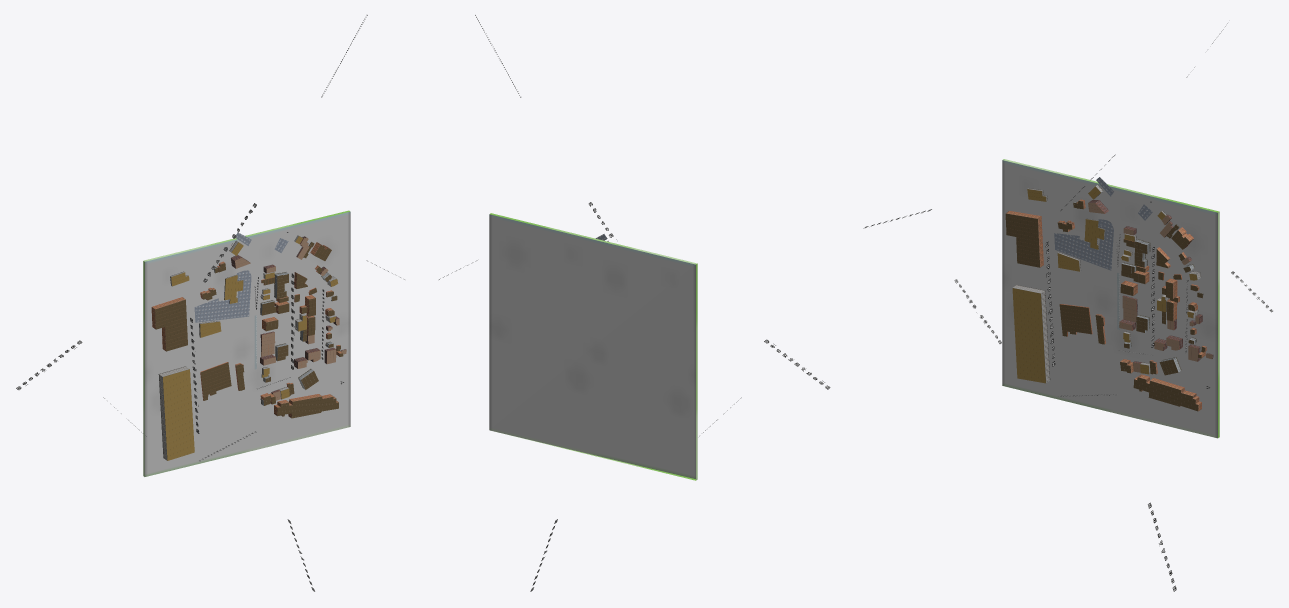
The picture shows the model from 3 angles, left to right: view 1: azimuth 30°, elevation 25°; view 2: azimuth 150°, elevation 25°; view 3: azimuth 330°, elevation 25°; orthographic projection. The views are drawn at different scales.
Parts seen in each view (by area): view 1: POLYGON, BUILDING, FONT; view 2: POLYGON; view 3: POLYGON, BUILDING, FONT.
Part boxes in pixels (x1,y1,x2,y2): POLYGON: [143, 210, 350, 476]; BUILDING: [151, 235, 346, 460]; FONT: [16, 15, 404, 591]; POLYGON: [489, 213, 697, 480]; POLYGON: [1002, 159, 1219, 438]; BUILDING: [1005, 185, 1213, 411]; FONT: [863, 23, 1272, 591].
Size of the model in its own units: 1161 by 1599 by 29.
Materials: 4 (4 with a texture image).
